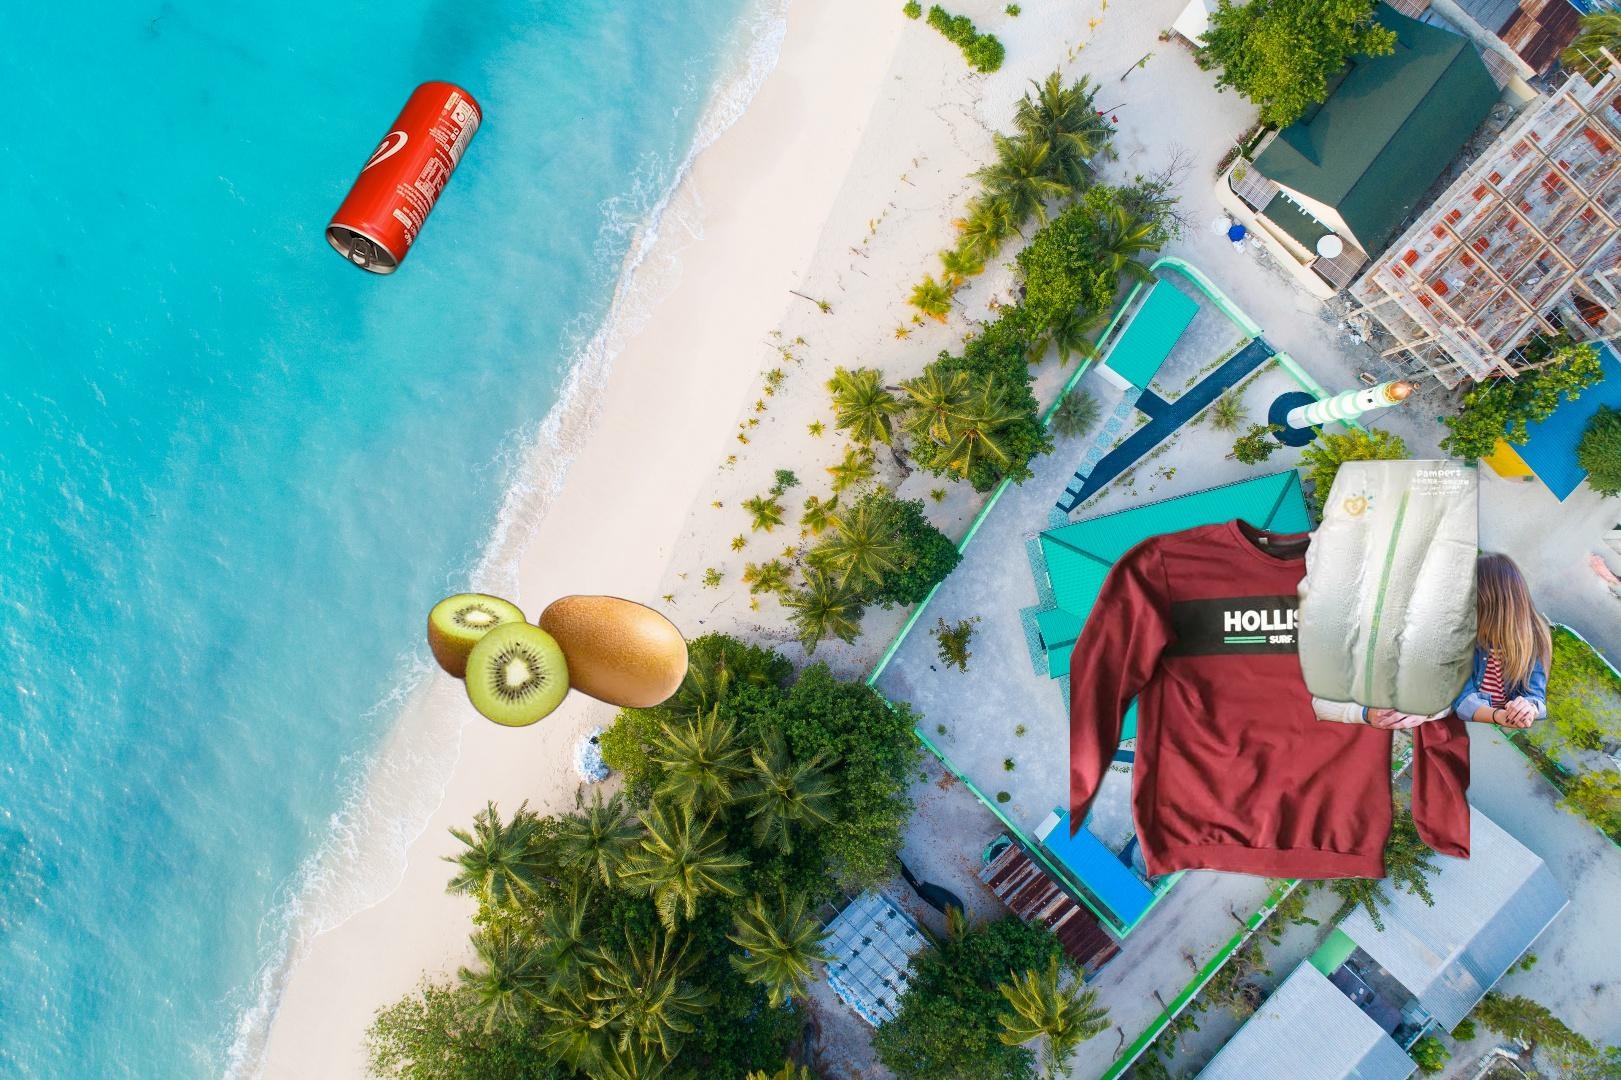biological: (425, 563, 691, 730)
clothes: (1070, 513, 1470, 885)
metal-cans: (321, 75, 487, 281)
trash: (1290, 459, 1480, 724)
trashbox-cardboard: (1306, 532, 1558, 733)
